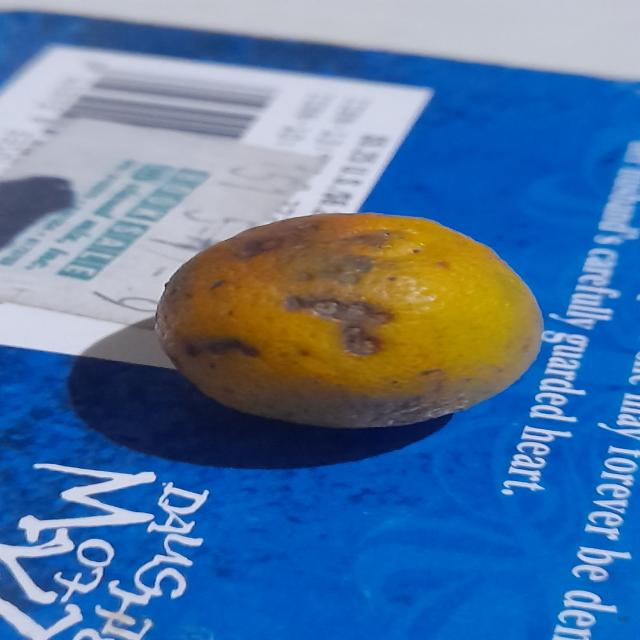black spot: (167, 207, 546, 434)
